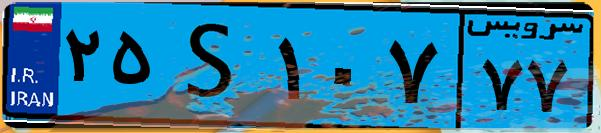0: (330, 28, 385, 110)
1: (270, 28, 330, 110)
2: (57, 26, 110, 100)
5: (110, 28, 158, 98)
7: (385, 28, 445, 110), (475, 38, 525, 113), (525, 38, 570, 115)
S: (158, 12, 270, 120)
